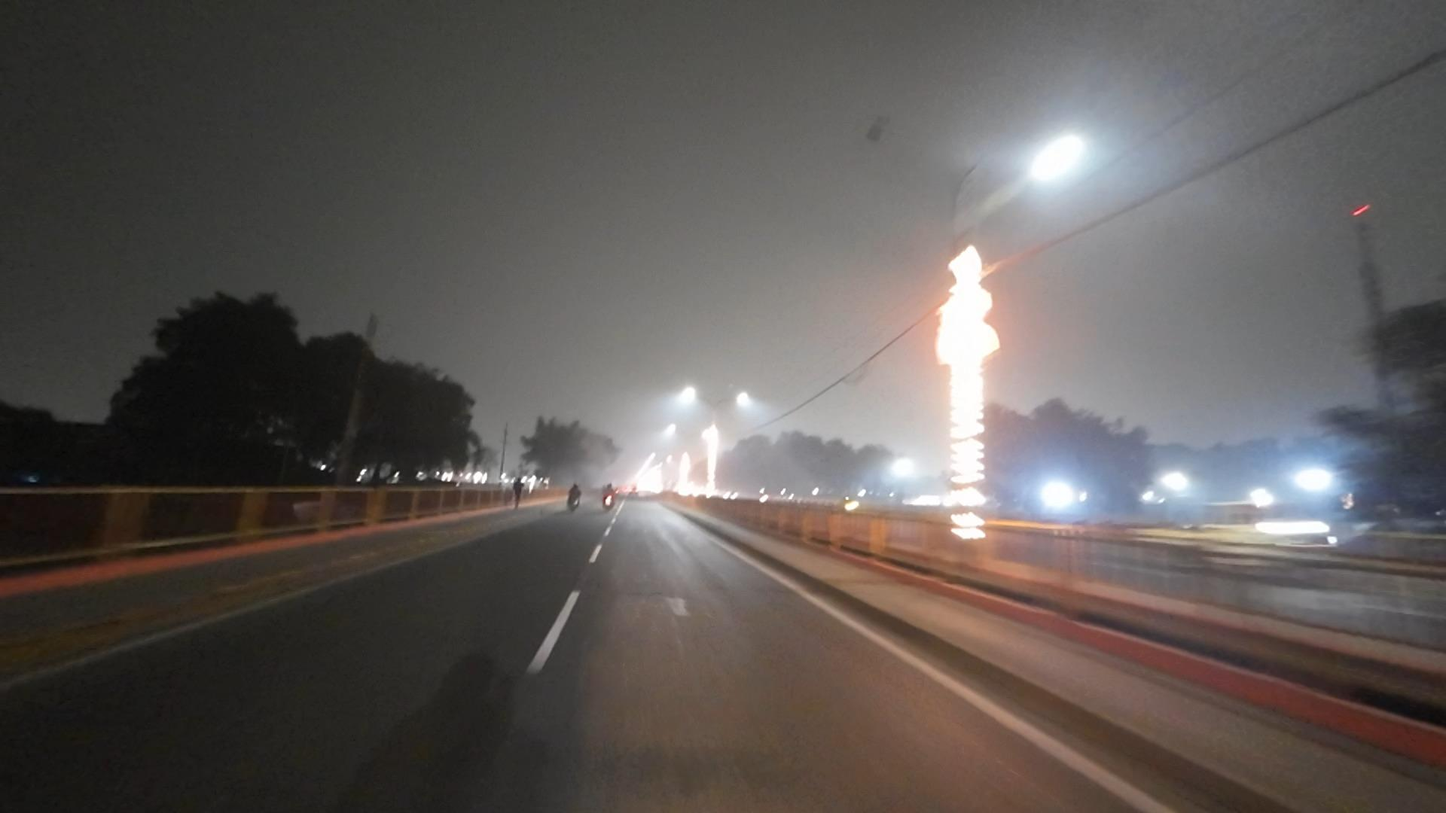streetlight: (845, 114, 951, 153)
